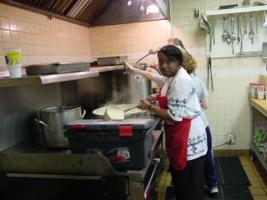person: (138, 45, 208, 200)
